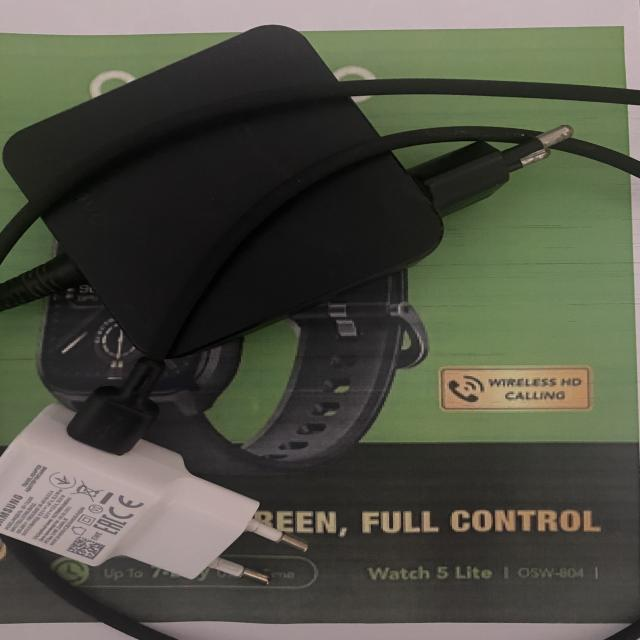Watch 5 Lite OSW-804: (358, 563, 607, 589)
